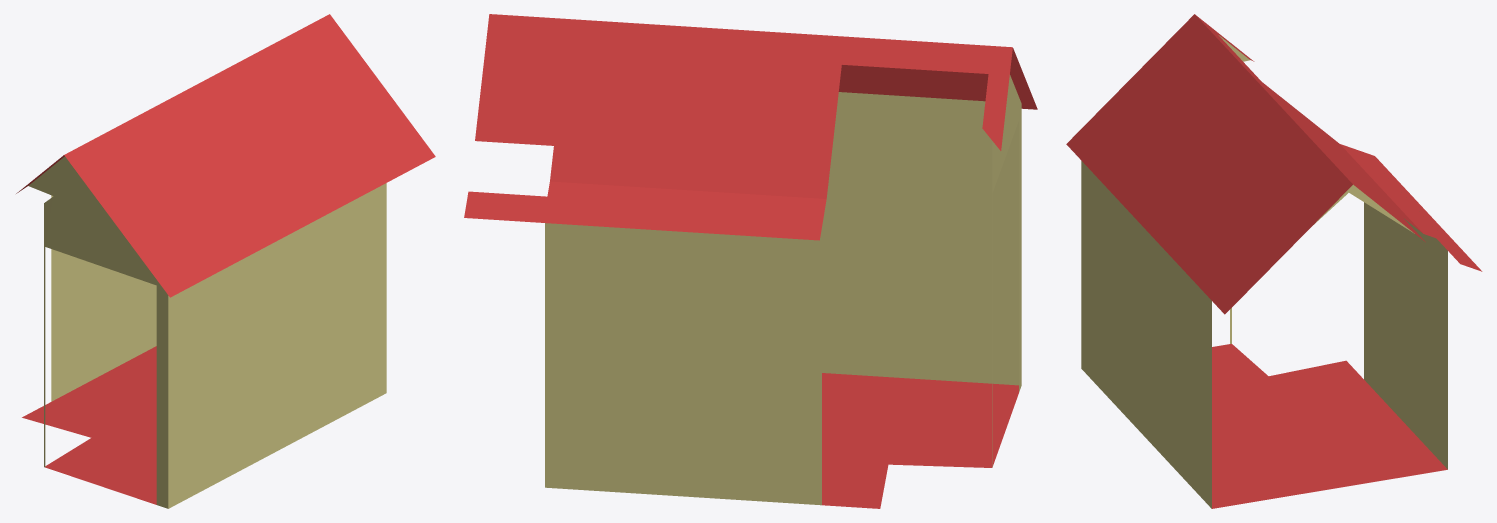
The picture shows the model from 3 angles, left to right: view 1: azimuth 30°, elevation 25°; view 2: azimuth 150°, elevation 25°; view 3: azimuth 270°, elevation 25°; orthographic projection. The views are drawn at different scales.
Bounding box in the file's own units: 20.39 × 17.77 × 15.56.
